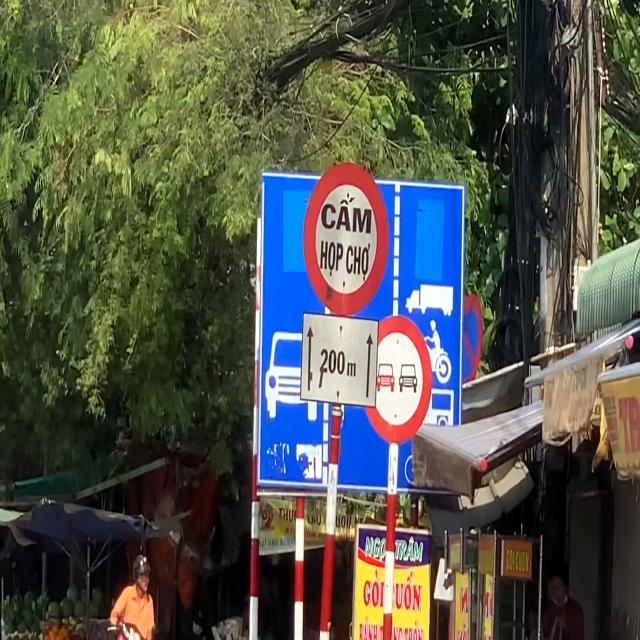P.131a: (447, 292, 484, 388)
